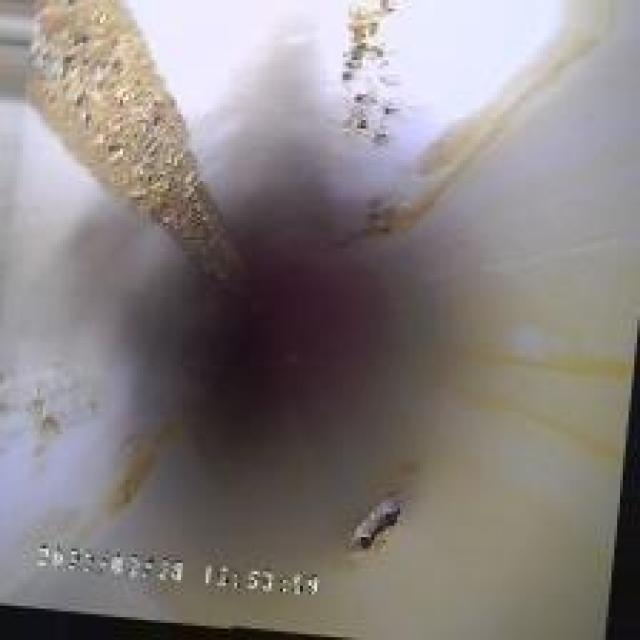ferrule: (343, 492, 406, 552)
